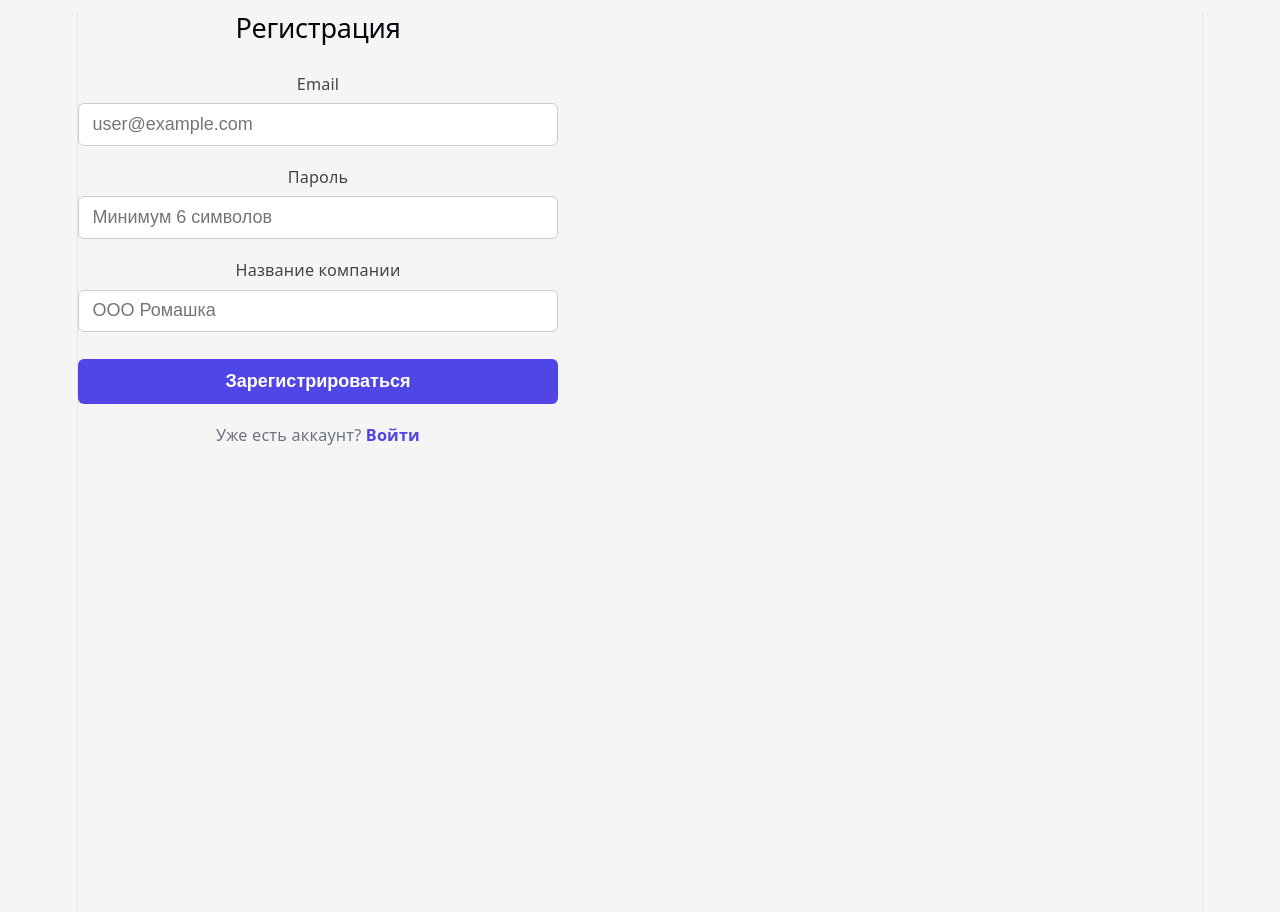
Test: RegisterPage › при ошибке 409 показывает сообщение из ответа
Type "dup@test.ru" into the field with placeholder "user@example.com" at (318,125), box [78,103,558,146]
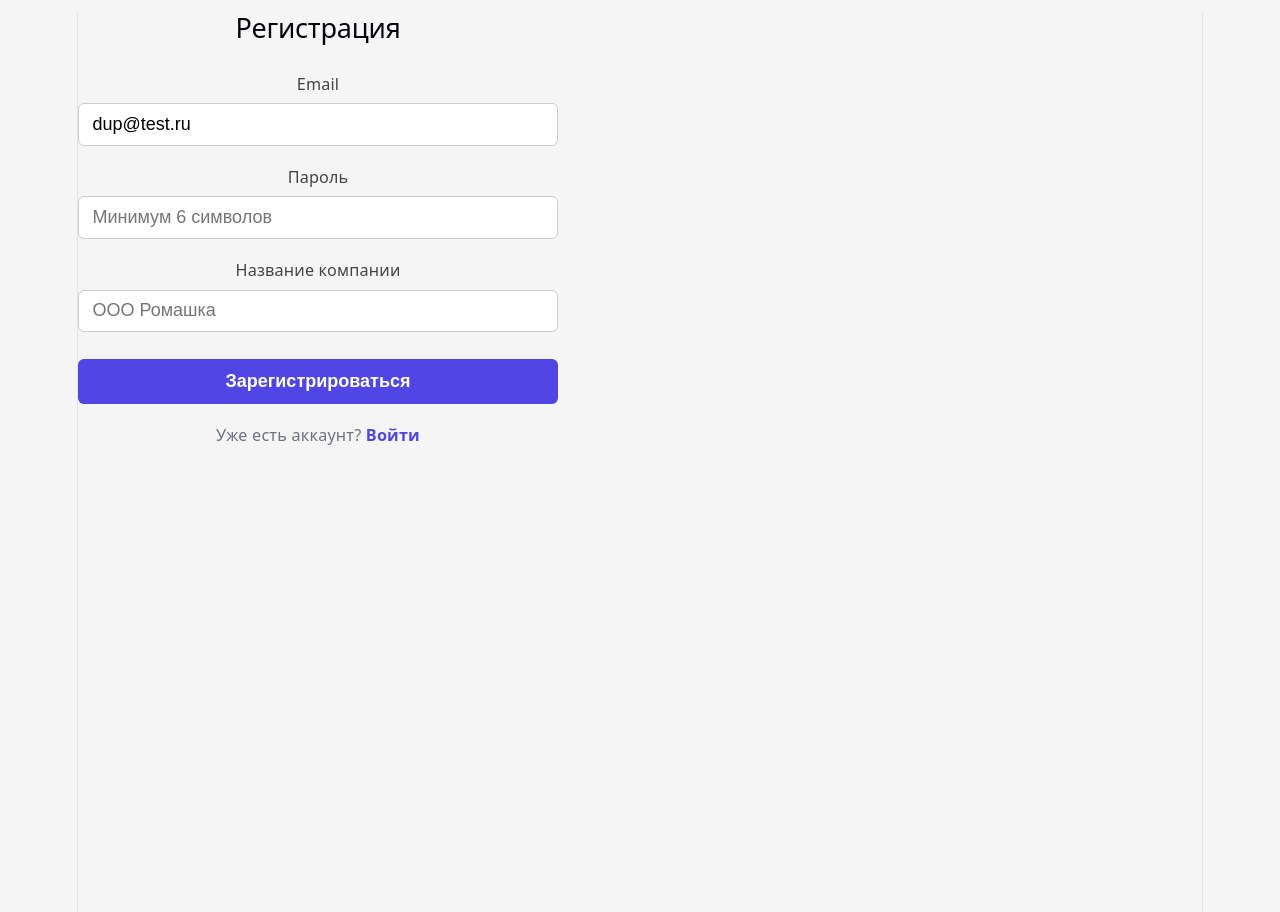
Type "secret" into the password field with placeholder "Минимум 6 символов" at (318,218), box [78,196,558,239]
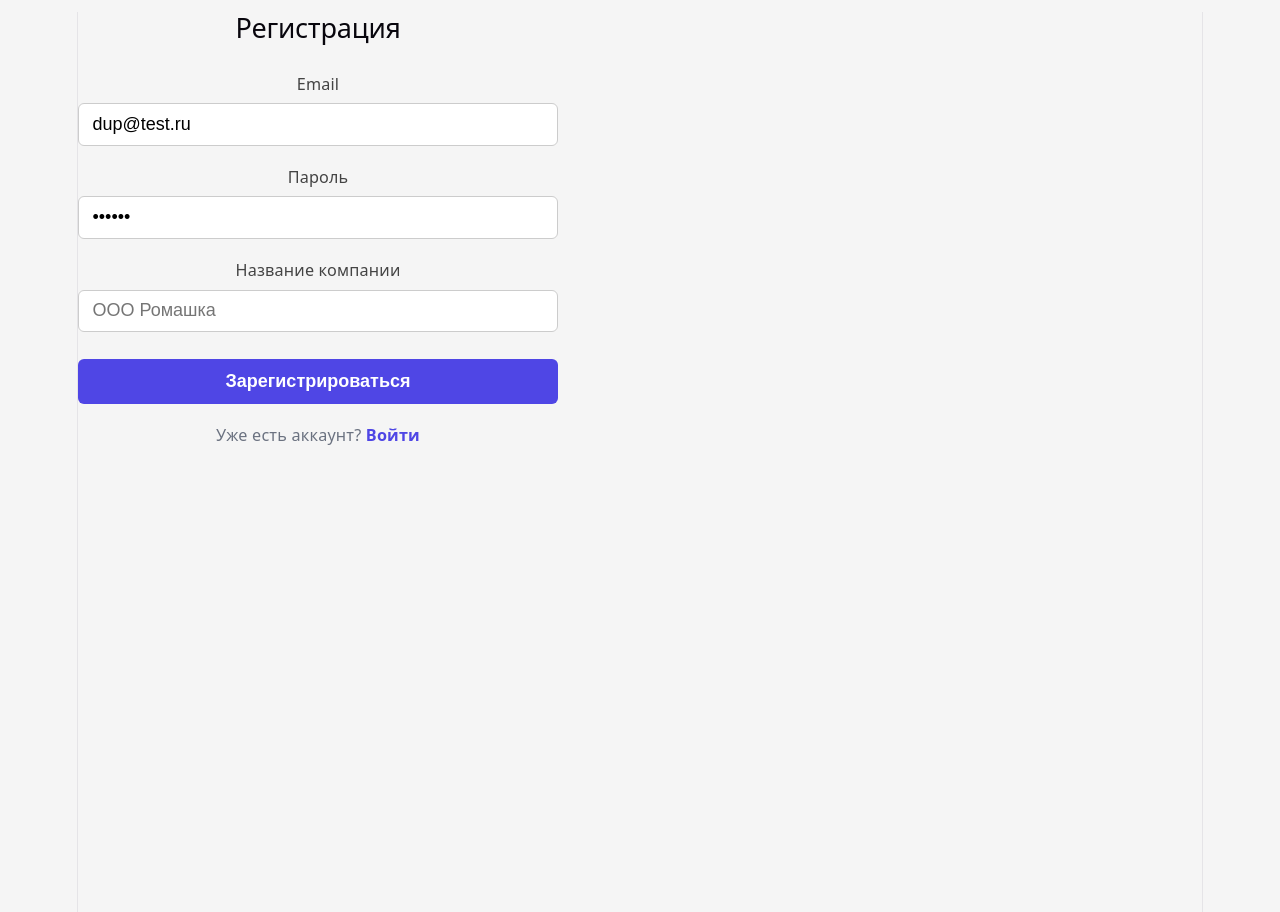
Type "Компания" into the field with placeholder "ООО Ромашка" at (318,311), box [78,290,558,332]
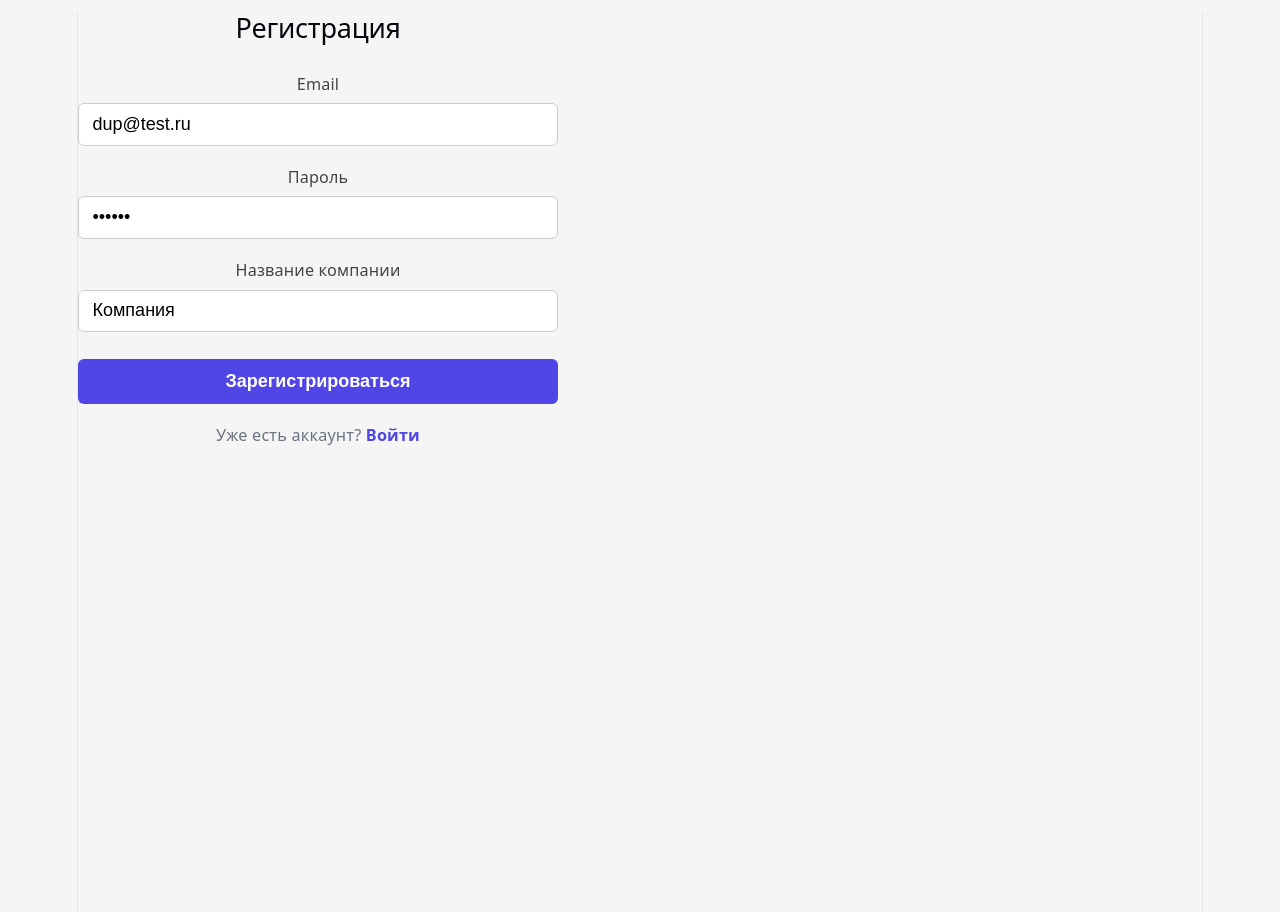
Click the button "Зарегистрироваться" at (318,382), box [78,359,558,404]
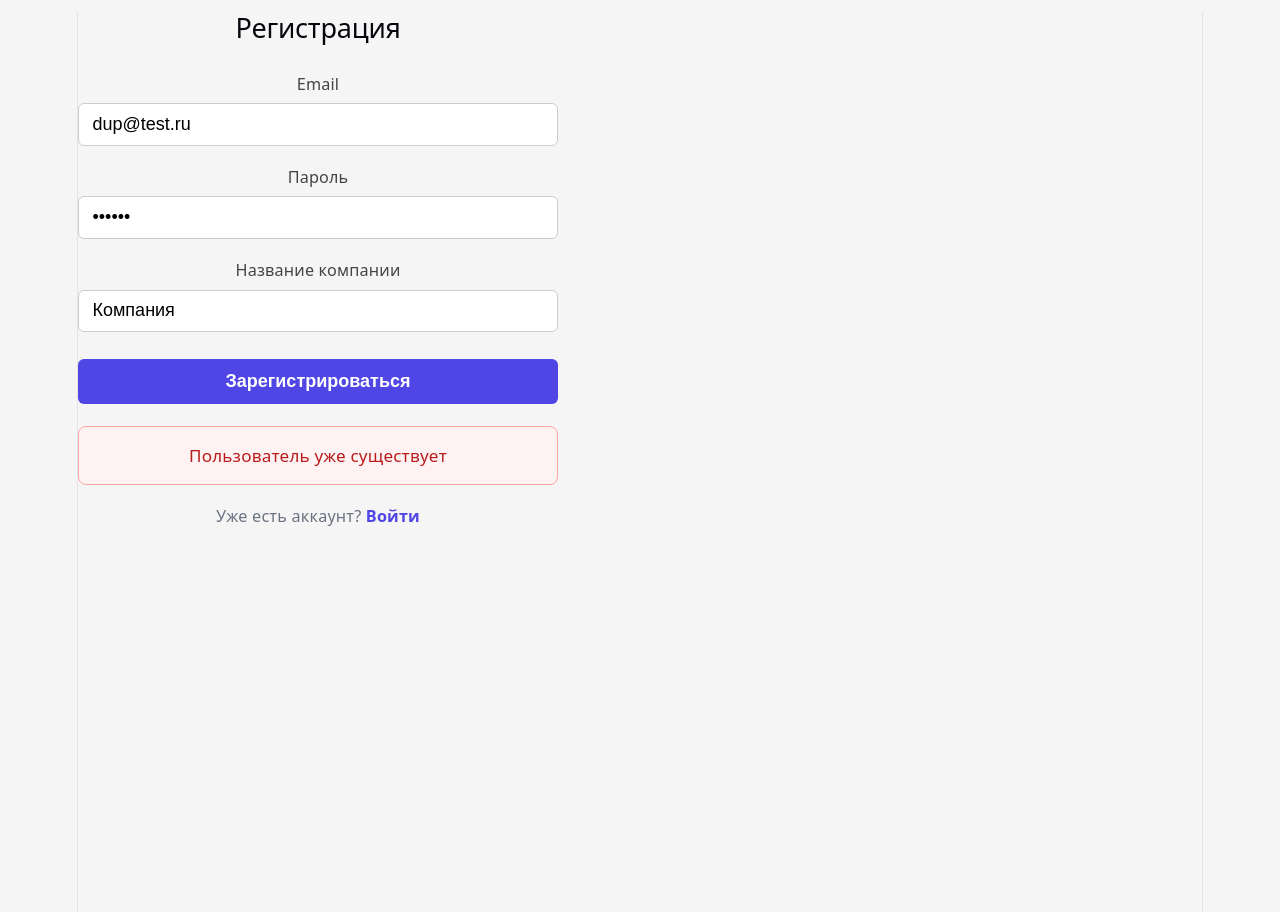
Now the text "Пользователь уже существует" is shown, box [78,426,558,485]
